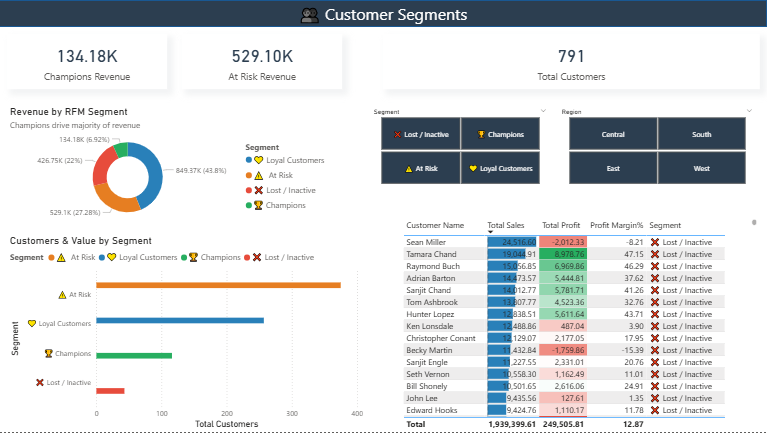

The dashboard page shown, as its layout file describes it:
{"tool":"powerbi","page":{"name":"Customer Segments","canvas":[1280,720],"ordinal":3},"visuals":[{"type":"shape","box":[0,0,1280,45],"z":0},{"type":"card","fields":{"Values":["Orders.Champions Revenue"]},"box":[13.3,56.7,266.7,91.7],"z":1000},{"type":"card","fields":{"Values":["Orders.At Risk Revenue"]},"box":[305,56.7,266.7,91.7],"z":2000},{"type":"card","fields":{"Values":["Orders.Total Customers"]},"box":[640,56.7,628.3,91.7],"z":3000},{"type":"donutChart","title":"Revenue by RFM Segment","fields":{"Category":["RFM_Segments.Segment"],"Y":["Orders.Total Sales"]},"box":[13.3,175,543.3,200],"z":4000},{"type":"clusteredBarChart","title":"Customers & Value by Segment","fields":{"Category":["RFM_Segments.Segment"],"Y":["Orders.Total Customers"],"Series":["RFM_Segments.Segment"]},"box":[13.3,390,598.3,330],"z":5000},{"type":"slicer","fields":{"Values":["RFM_Segments.Segment"]},"box":[611.7,175,313.3,138.3],"z":6000},{"type":"slicer","fields":{"Values":["Orders.Region"]},"box":[925,175,343.3,138.3],"z":7000},{"type":"tableEx","fields":{"Values":["Orders.Customer Name","Orders.Total Sales","Orders.Total Profit","Orders.Profit Margin%","RFM_Segments.Segment"]},"box":[668.3,360,600,360],"z":8000}]}

Visuals, with their boxes in screenshot pixels (x1, y1, x2, y2), scaled from the page's 1280x720 canvas onto the 767x433 screenshot:
shape: (0,0,766,27)
card - Orders.Champions Revenue: (8,34,168,89)
card - Orders.At Risk Revenue: (183,34,343,89)
card - Orders.Total Customers: (384,34,760,89)
"Revenue by RFM Segment" donutChart: (8,105,334,226)
"Customers & Value by Segment" clusteredBarChart: (8,235,366,432)
slicer - RFM_Segments.Segment: (367,105,554,188)
slicer - Orders.Region: (554,105,760,188)
tableEx - Orders.Customer Name x Orders.Total Sales: (400,216,760,432)
